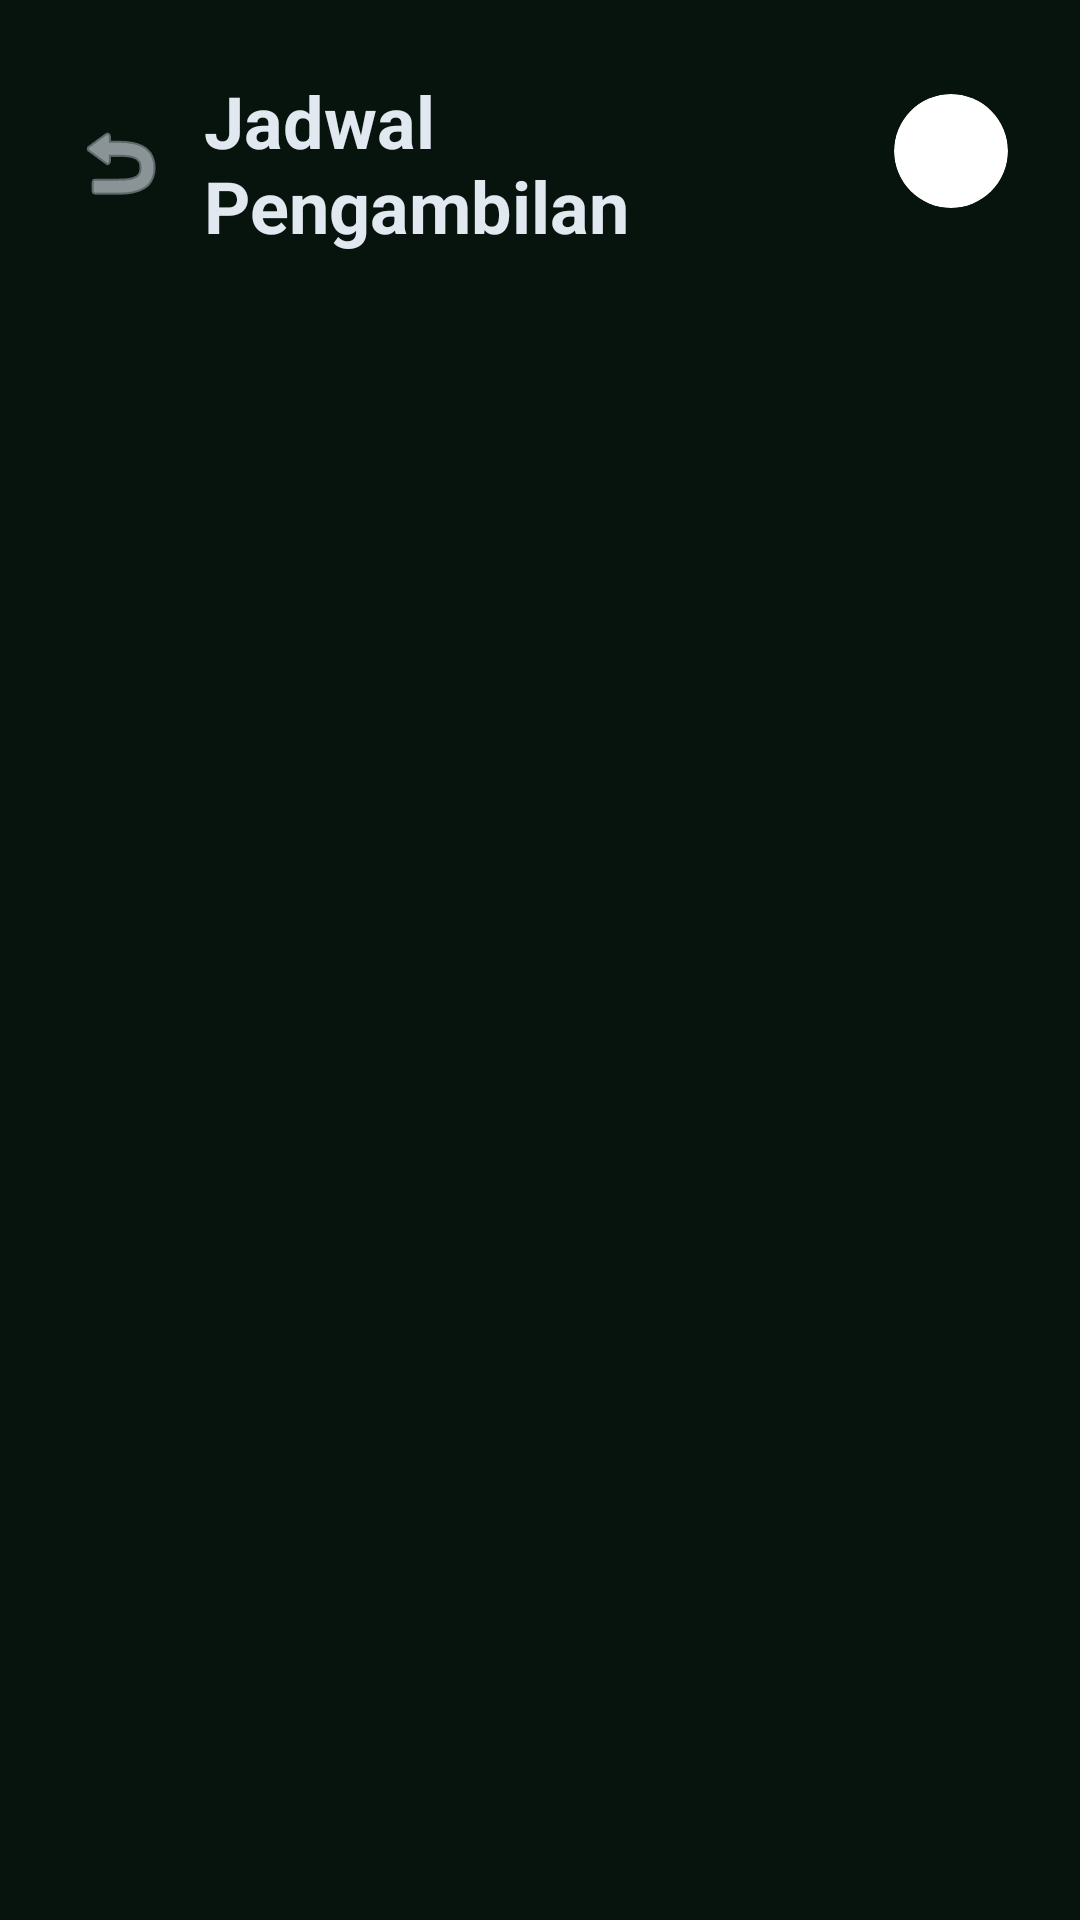

Screen size 1080px x 1920px. Icon name, then its box in pixels as box(x1, y1, x2, y2):
revert: box(87, 132, 156, 195)
